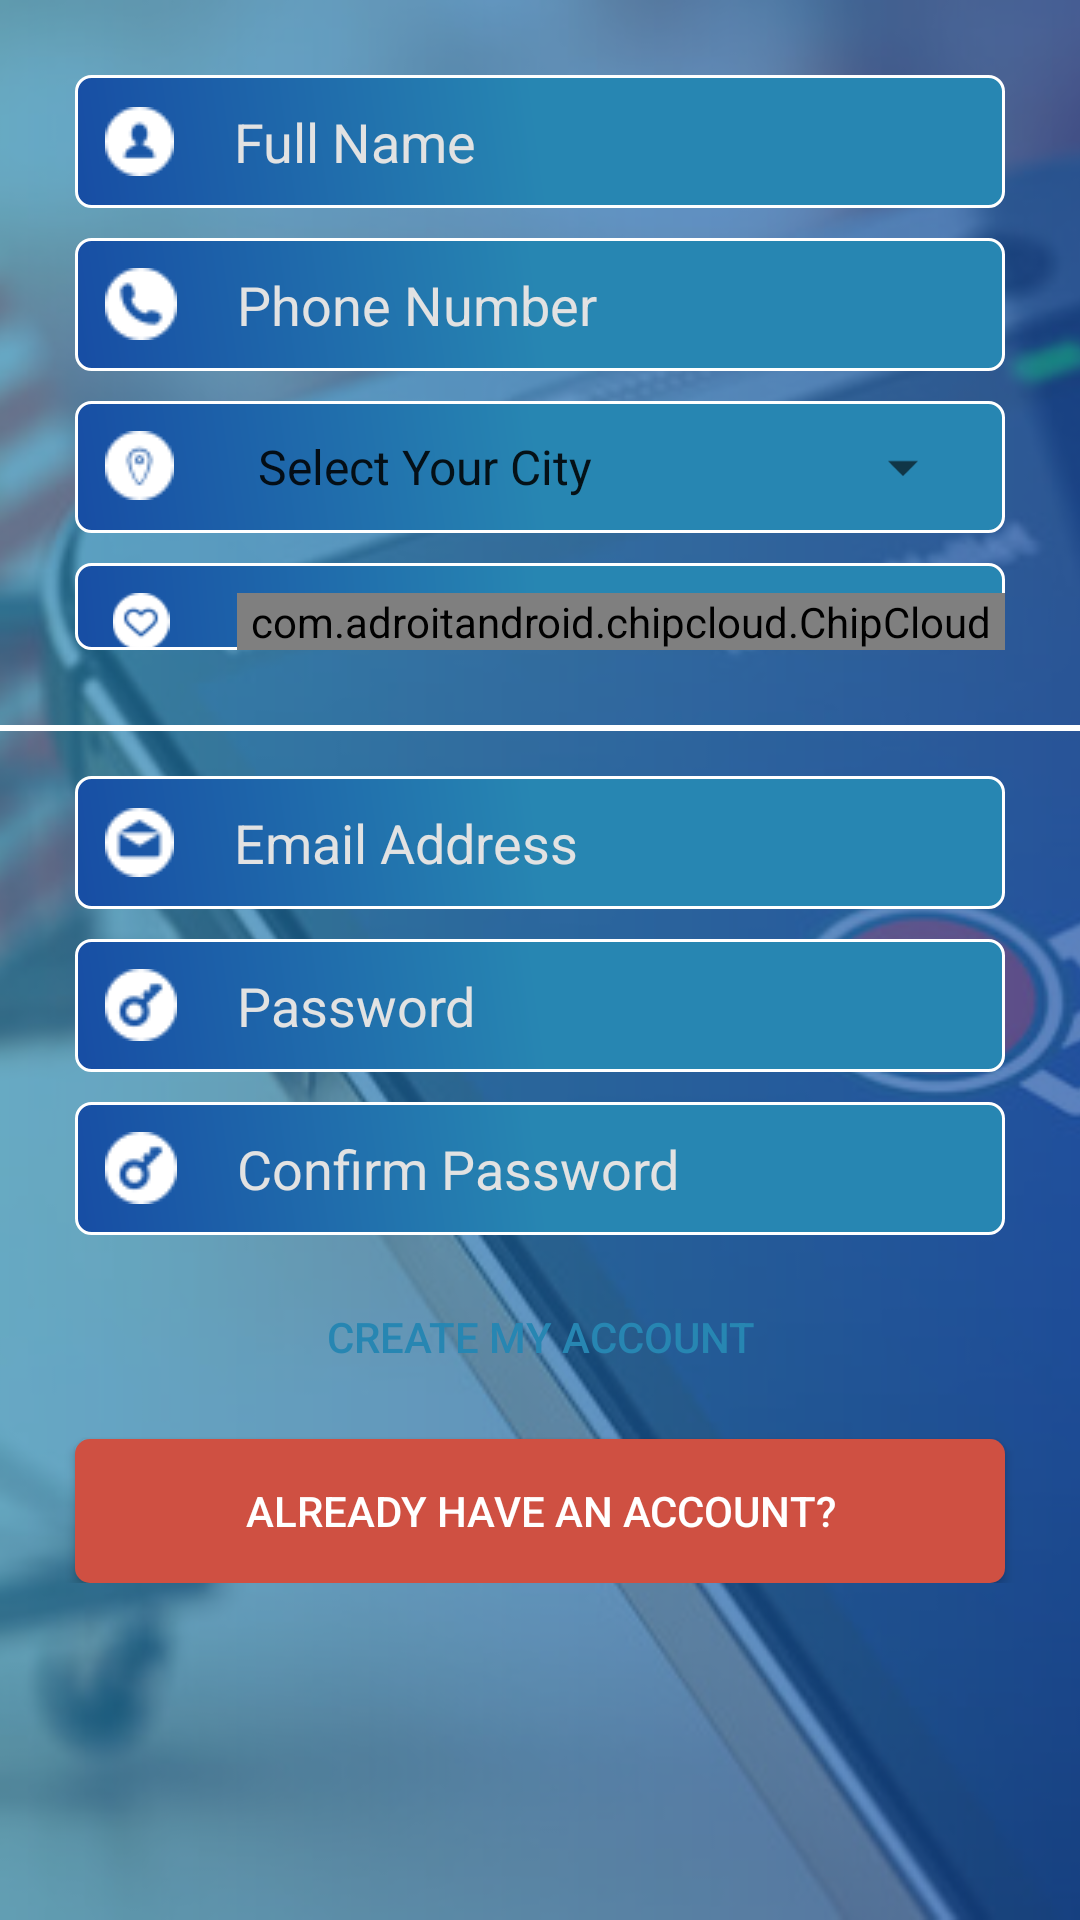

Point at icon controls on the screen. Image size 1080w x 1920h, points as (x=x, y=y).
heart: (x=141, y=621)
